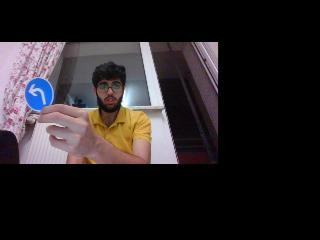left: (25, 80, 53, 108)
